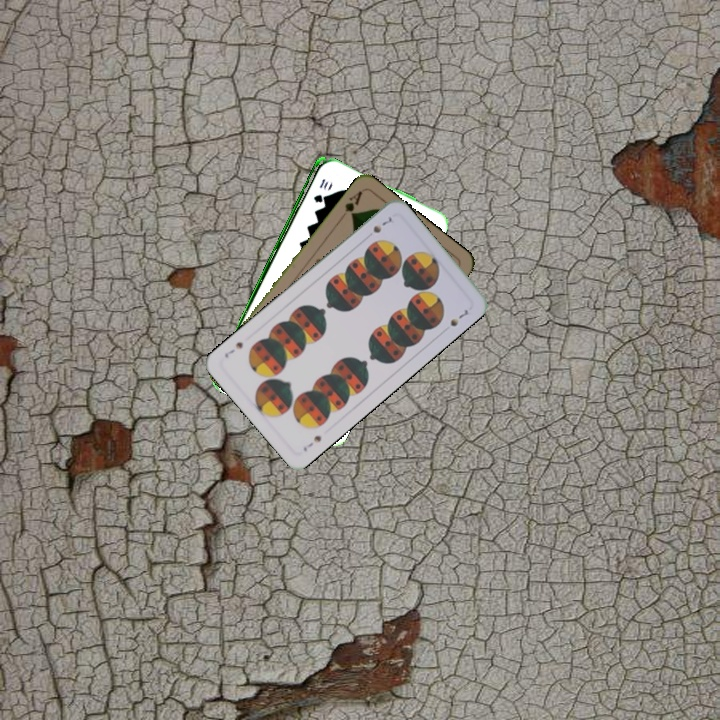G10: (310, 175, 331, 205)
GA: (336, 186, 365, 221)
S7: (369, 213, 394, 236), (299, 431, 324, 454)
